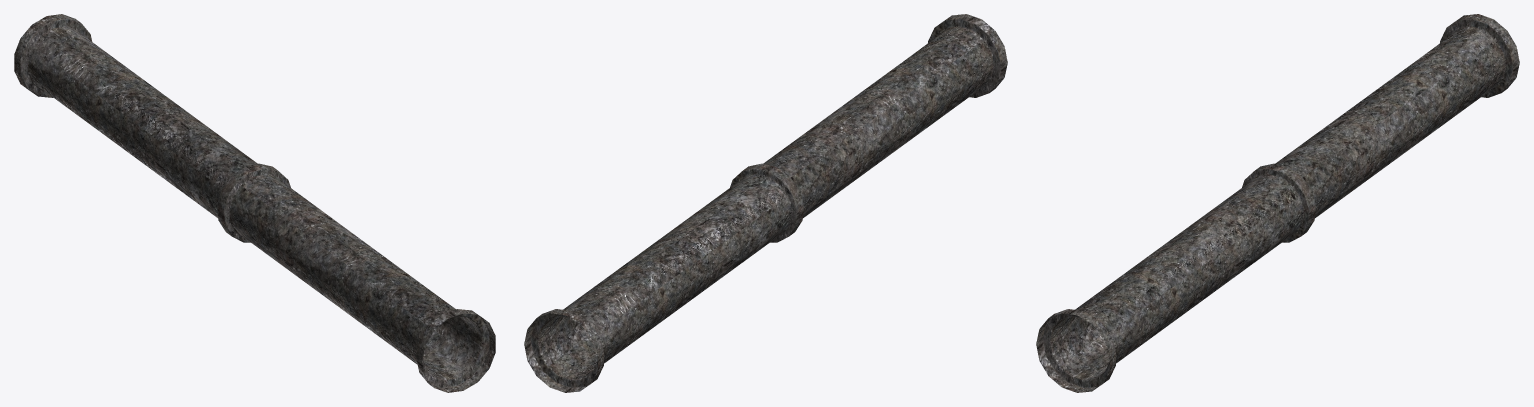
File: Pipe_02.FBX
The picture shows the model from 3 angles, left to right: view 1: azimuth 30°, elevation 25°; view 2: azimuth 150°, elevation 25°; view 3: azimuth 330°, elevation 25°; orthographic projection.
Visible parts, largest first — view 1: Pipe_02; view 2: Pipe_02; view 3: Pipe_02.
Boxes of the visible parts, x1,y1,x2,y2 form: Pipe_02: [14, 14, 495, 392]; Pipe_02: [524, 14, 1007, 392]; Pipe_02: [1036, 14, 1519, 392].
Bounding box in the file's own units: 7.87 × 7.83 × 74.84.
